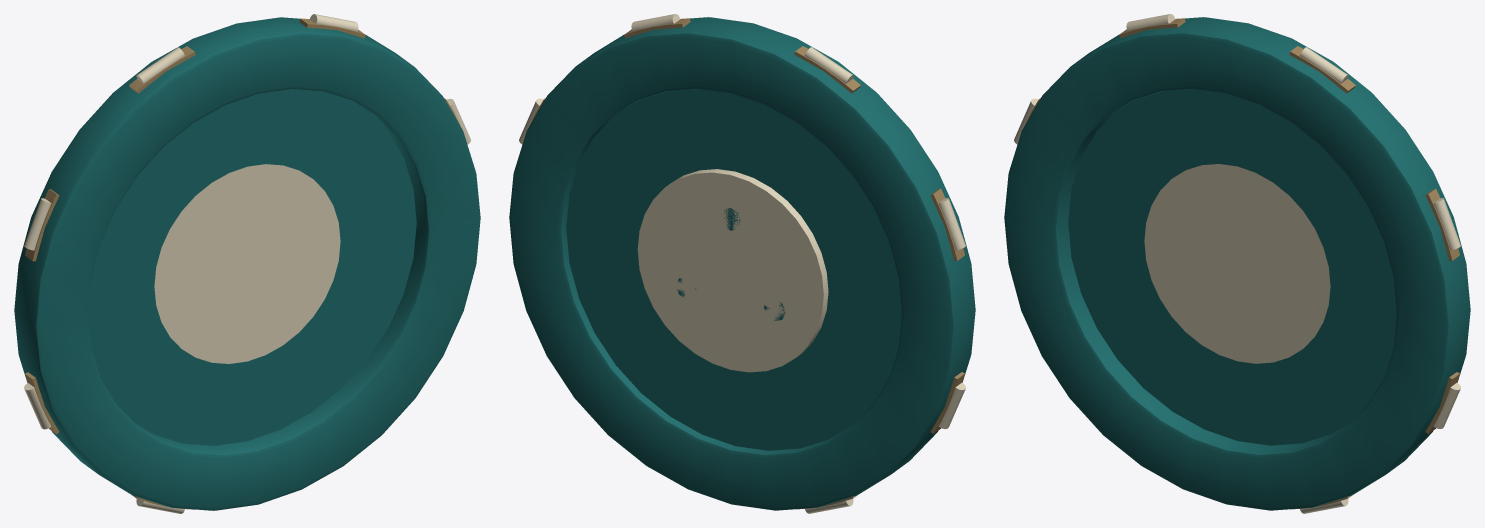
The model's file is k12_lashing_ring.obj.
The picture shows the model from 3 angles, left to right: view 1: azimuth 30°, elevation 25°; view 2: azimuth 150°, elevation 25°; view 3: azimuth 330°, elevation 25°; orthographic projection.
Parts seen in each view (by area): view 1: k12_lashing_ring; view 2: k12_lashing_ring; view 3: k12_lashing_ring.
Boxes of the visible parts, box(x1,y1,x2,y2) form: k12_lashing_ring: box(14, 14, 480, 513); k12_lashing_ring: box(509, 14, 975, 513); k12_lashing_ring: box(1004, 14, 1470, 513).
Size of the model in its own units: 2.1 by 2.1 by 0.1905.
